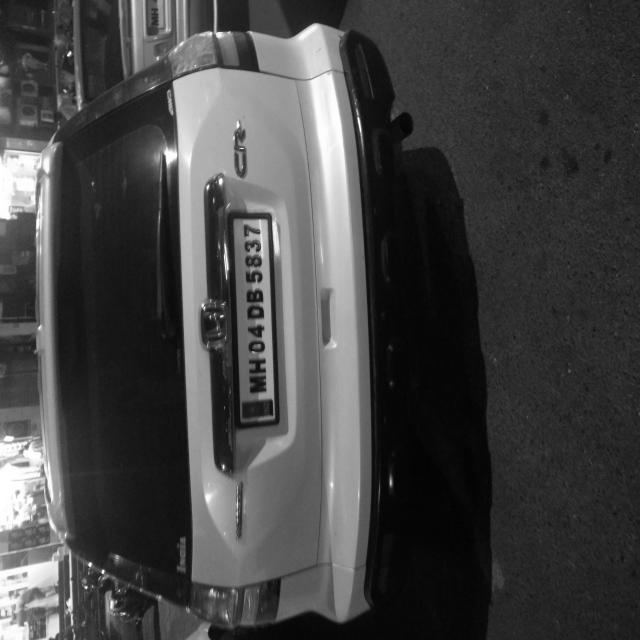car: (12, 39, 463, 562)
license-plate: (157, 310, 321, 373)
